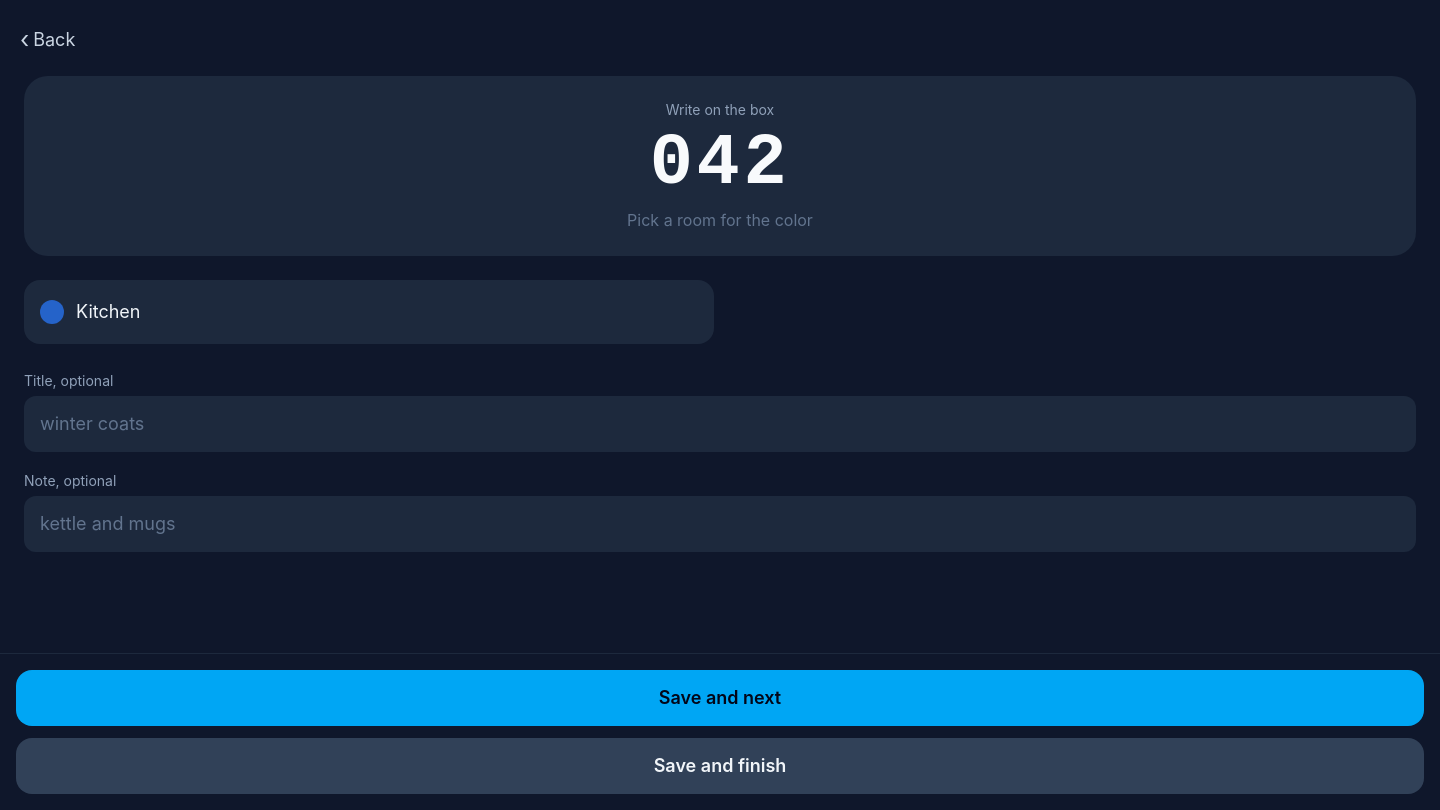
AddBox › stays on the sheet and says so when the draft cannot be deleted
The width and height of the screenshot is (1440, 810).
Click the button "‹ Back" at (52, 40), box left=12, top=12, right=91, bottom=68
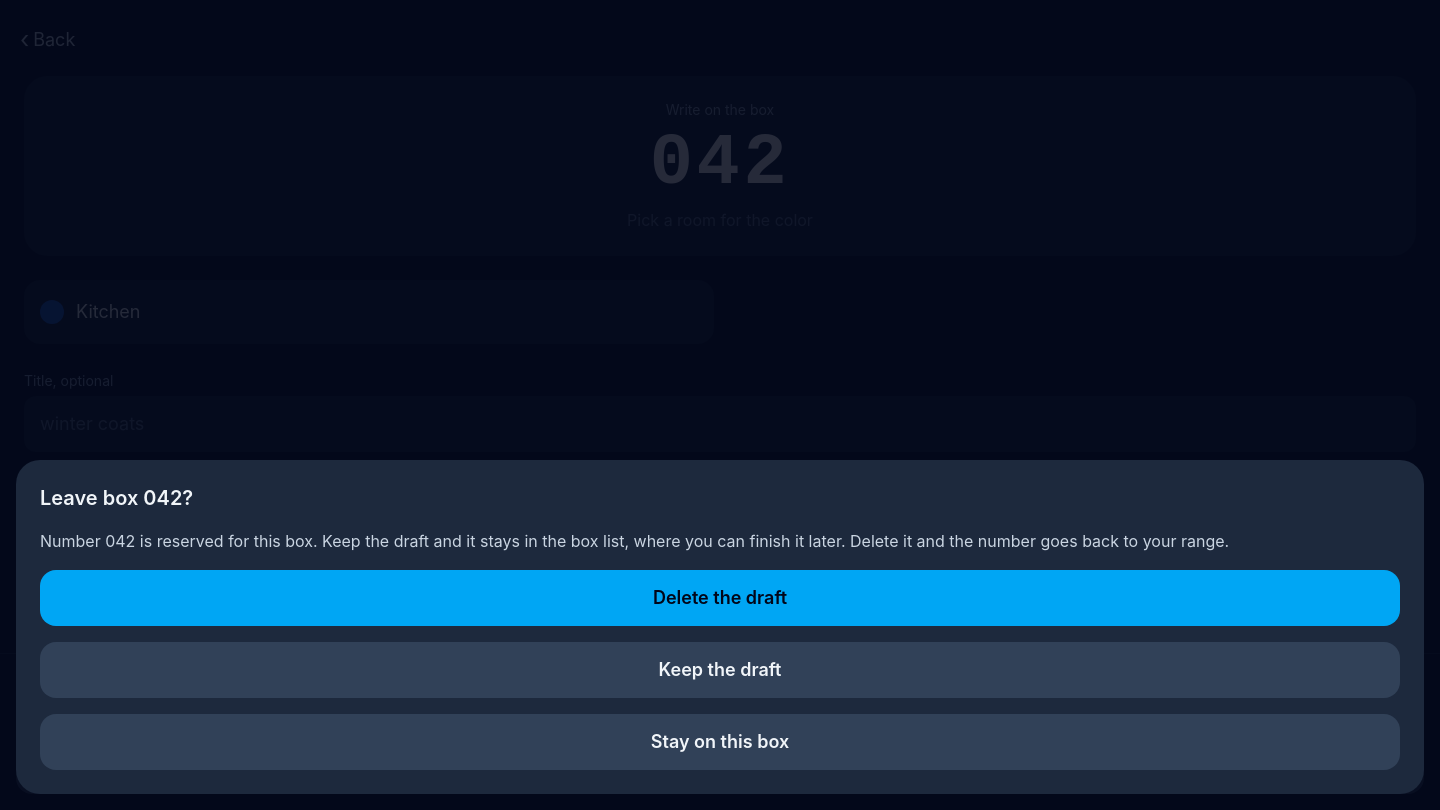
Click the button "Delete the draft" at (720, 598), box left=40, top=570, right=1400, bottom=626
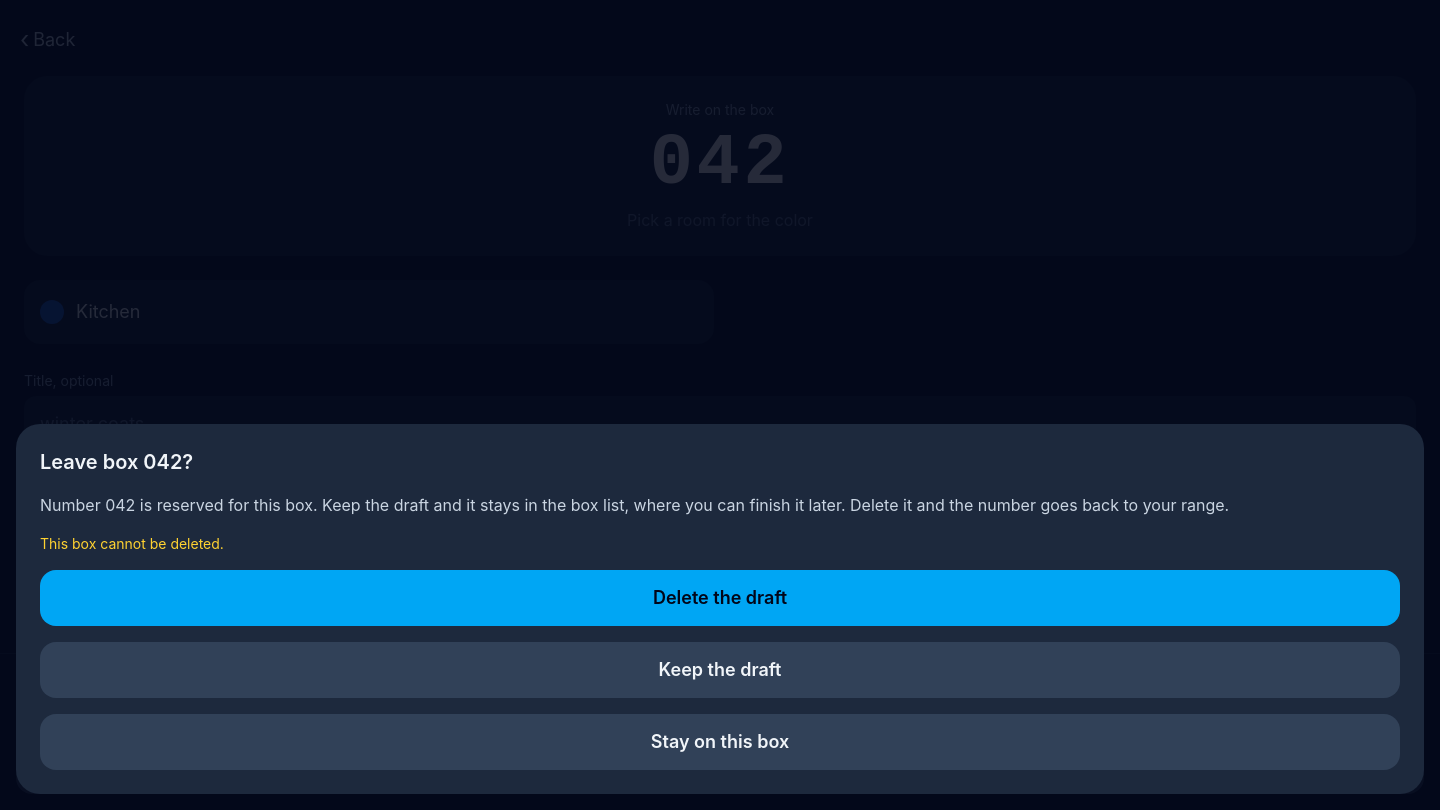
Check: the button "Keep the draft" is shown, box left=40, top=642, right=1400, bottom=698
Check: the text "This box cannot be deleted." is shown, box left=40, top=535, right=224, bottom=552
